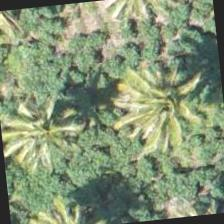Kelapa_Sawit: (119, 48, 218, 146), (0, 86, 87, 185)
